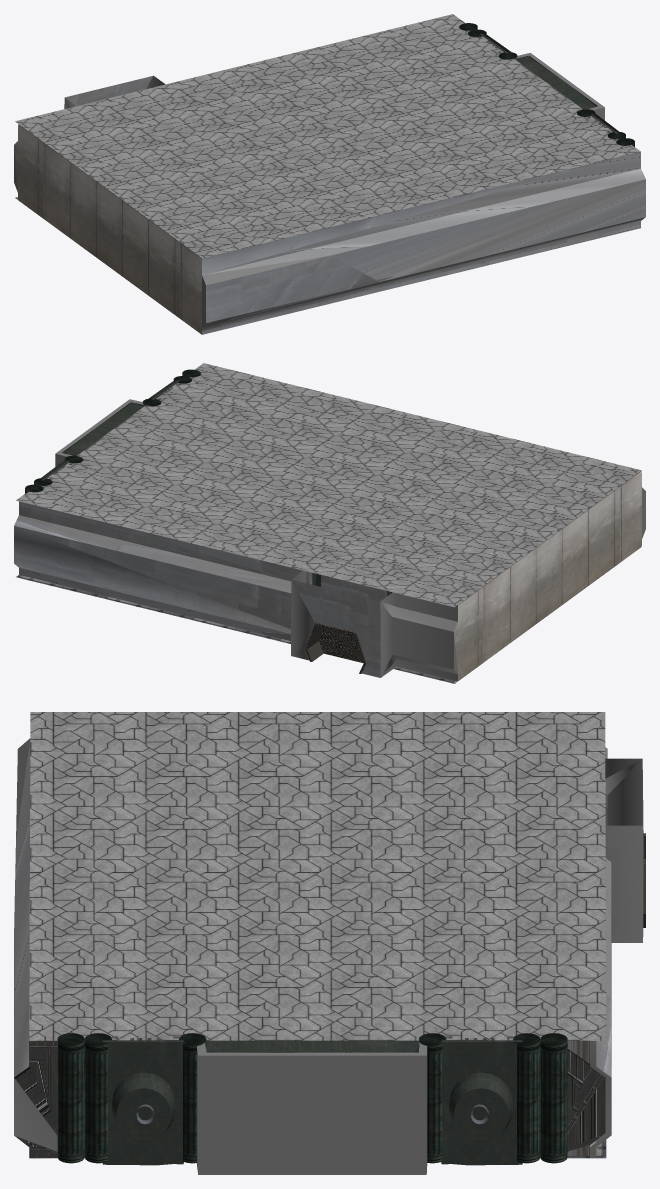
File: cantina.obj
3 views of the same model, one above another, from view 1: azimuth 30°, elevation 25°; view 2: azimuth 150°, elevation 25°; view 3: azimuth 270°, elevation 25° (orthographic). The views are drawn at different scales.
Visible parts, largest first — view 1: polySurface2858, polySurface2847, polySurface2844, polySurface2856, polySurface2819; view 2: polySurface2858, polySurface2819, polySurface2844, polySurface2624, polySurface2856, polySurface2773; view 3: polySurface2858, polySurface2856, polySurface2819, polySurface2847.
Boxes of the visible parts, left/top/right/bottom form: polySurface2858: left=15, top=14, right=640, bottom=258; polySurface2847: left=202, top=152, right=645, bottom=334; polySurface2844: left=14, top=124, right=205, bottom=334; polySurface2856: left=459, top=23, right=640, bottom=152; polySurface2819: left=19, top=75, right=165, bottom=125; polySurface2858: left=16, top=363, right=641, bottom=607; polySurface2819: left=14, top=501, right=457, bottom=681; polySurface2844: left=454, top=471, right=645, bottom=680; polySurface2624: left=305, top=623, right=366, bottom=673; polySurface2856: left=25, top=369, right=200, bottom=493; polySurface2773: left=16, top=575, right=457, bottom=683; polySurface2858: left=29, top=712, right=606, bottom=1052; polySurface2856: left=14, top=1033, right=605, bottom=1174; polySurface2819: left=590, top=747, right=643, bottom=1158; polySurface2847: left=14, top=738, right=35, bottom=1077.
Size of the model in its own units: 147 by 25.3 by 114.
